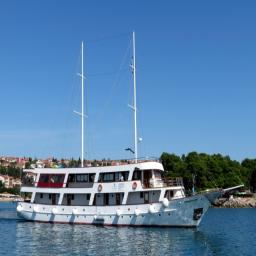cruises: (17, 138, 247, 233)
